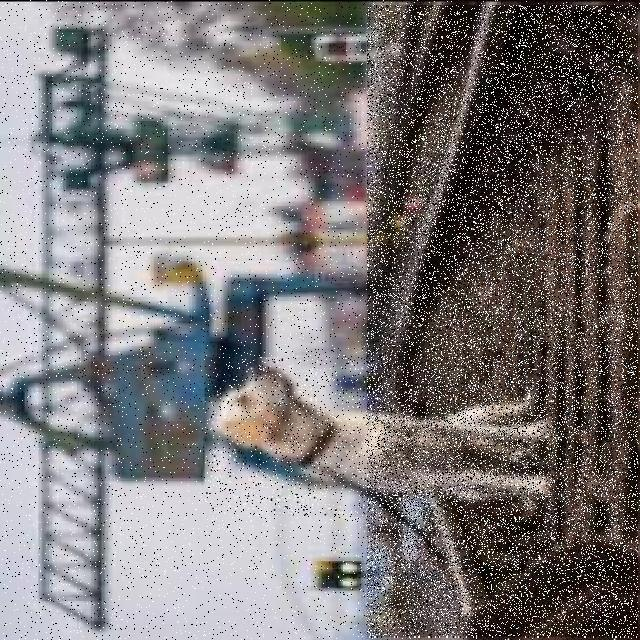rail: (368, 7, 639, 638)
